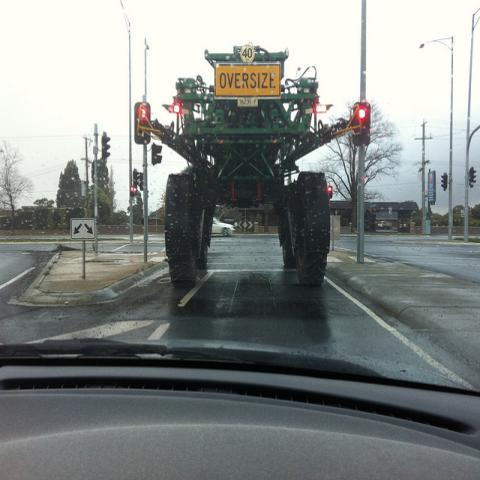car: (212, 216, 238, 236)
truck: (131, 41, 373, 289)
